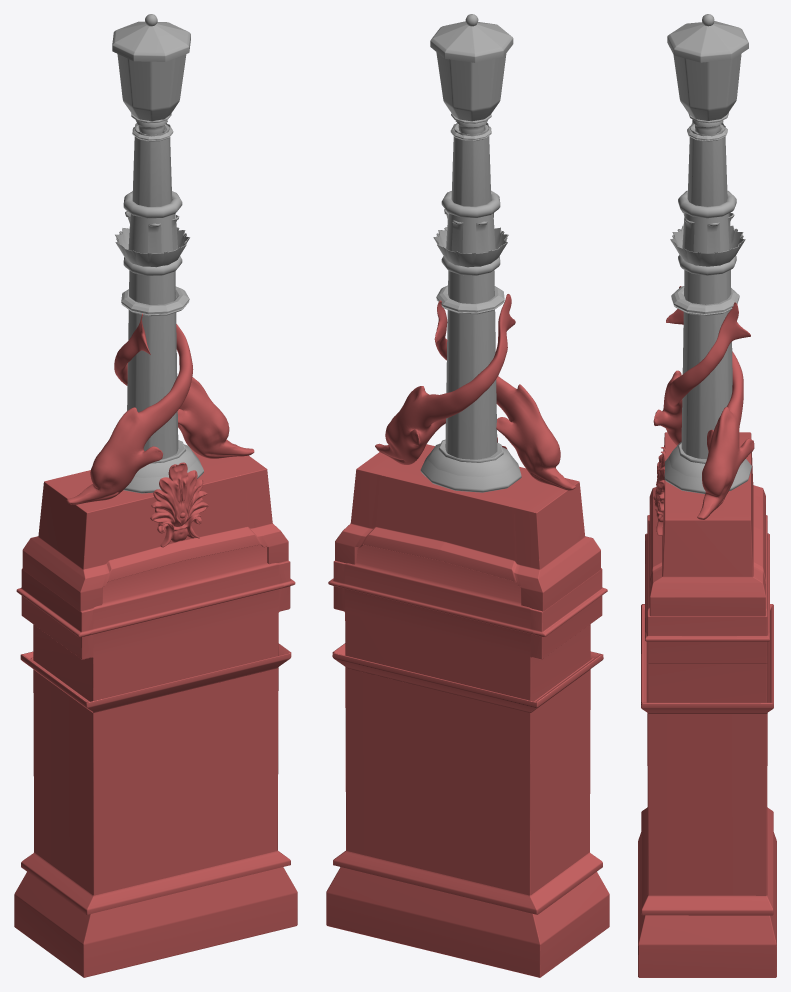
File: LampPost_LP.fbx
3 views of the same model, side by side, from view 1: azimuth 30°, elevation 25°; view 2: azimuth 150°, elevation 25°; view 3: azimuth 270°, elevation 25° (orthographic).
Parts seen in each view (by area): view 1: Bottom_with_doplhins_LP1, Lamp_pole_LP1; view 2: Bottom_with_doplhins_LP1, Lamp_pole_LP1; view 3: Bottom_with_doplhins_LP1, Lamp_pole_LP1.
Boxes of the visible parts, left/top/right/bottom form: Bottom_with_doplhins_LP1: left=14, top=313, right=297, bottom=977; Lamp_pole_LP1: left=112, top=14, right=203, bottom=493; Bottom_with_doplhins_LP1: left=326, top=294, right=609, bottom=977; Lamp_pole_LP1: left=420, top=14, right=521, bottom=492; Bottom_with_doplhins_LP1: left=638, top=286, right=776, bottom=977; Lamp_pole_LP1: left=664, top=14, right=751, bottom=493.
Size of the model in its own units: 96.48 by 53.6 by 387.
